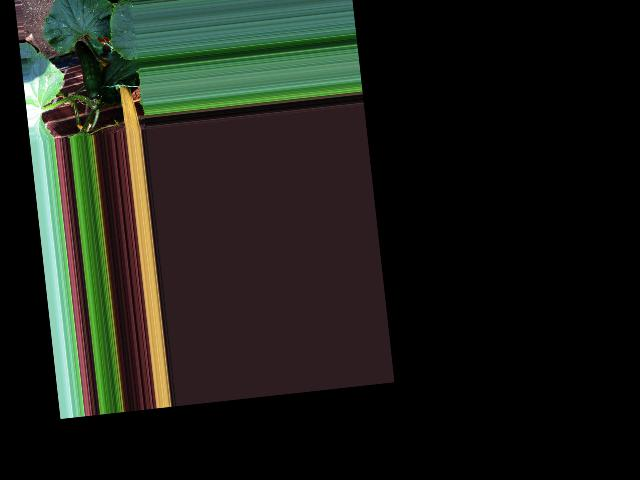cucumber: (73, 38, 103, 101)
